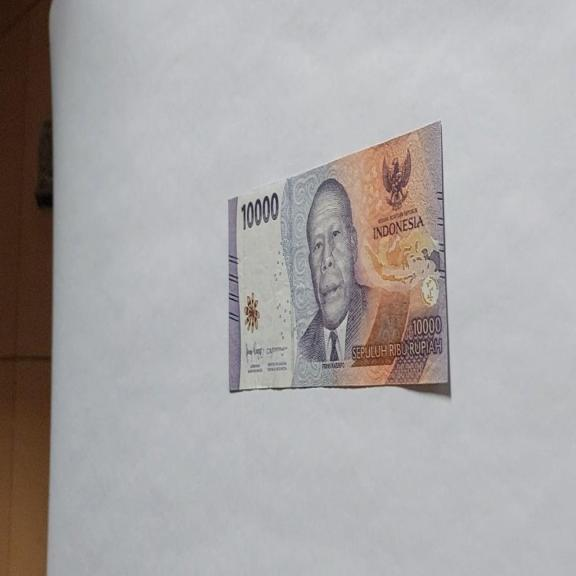Kertas: (227, 119, 450, 395)
